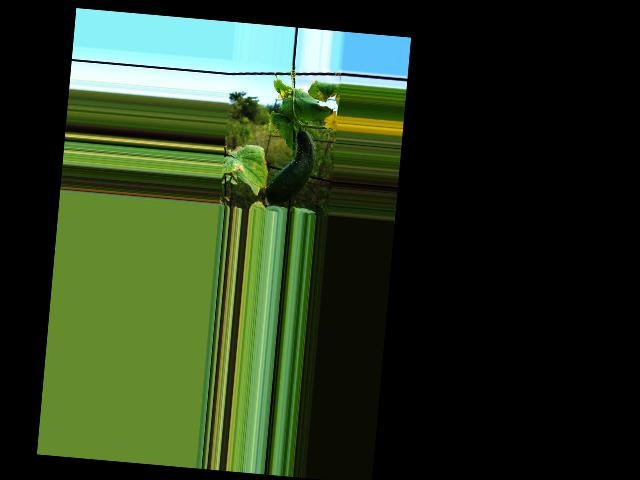cucumber: (264, 126, 317, 207)
